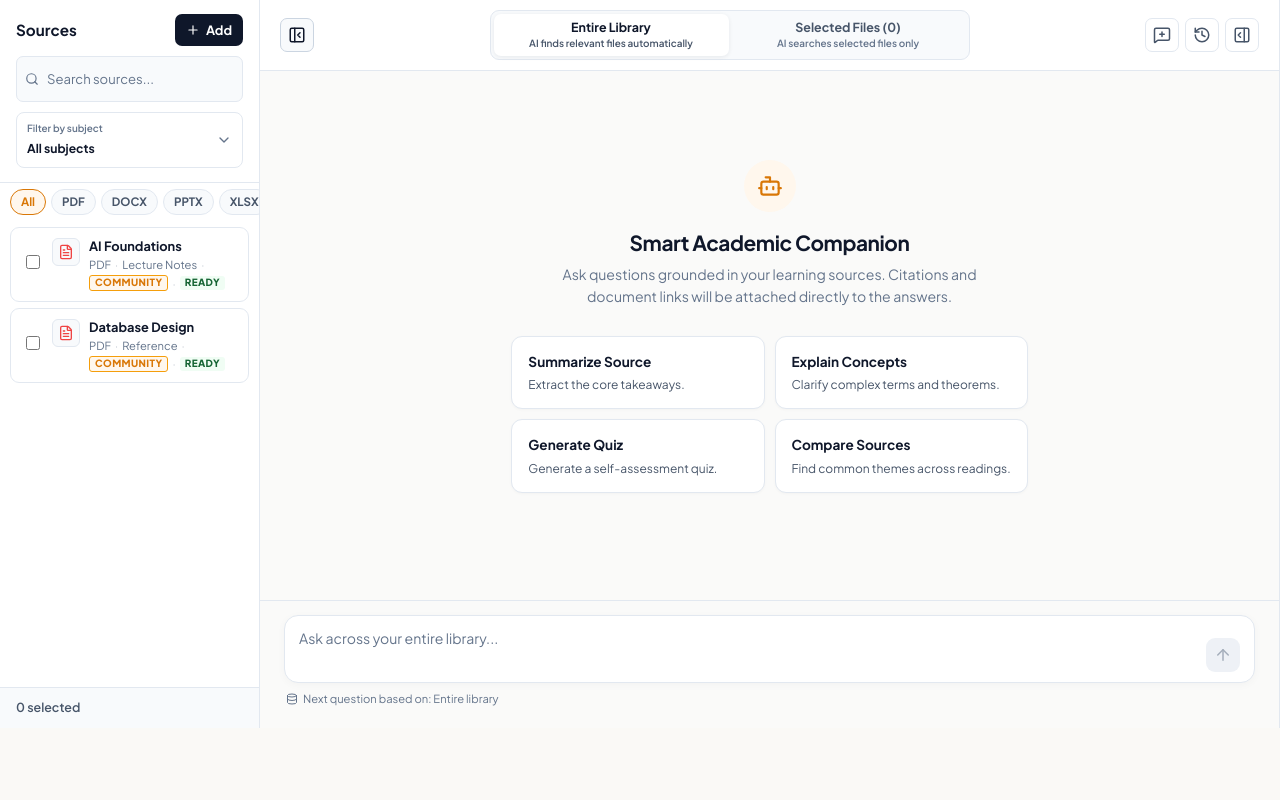
AiChatbotView subject filter › shows an explicit failure instead of a demo answer when the chat API fails
Check: the text "AI Foundations" is shown, box [89,238,182,254]
Type "Explain embeddings" into the text box with placeholder "Ask across your entire library..." at (748, 649), box [299,626,1196,672]
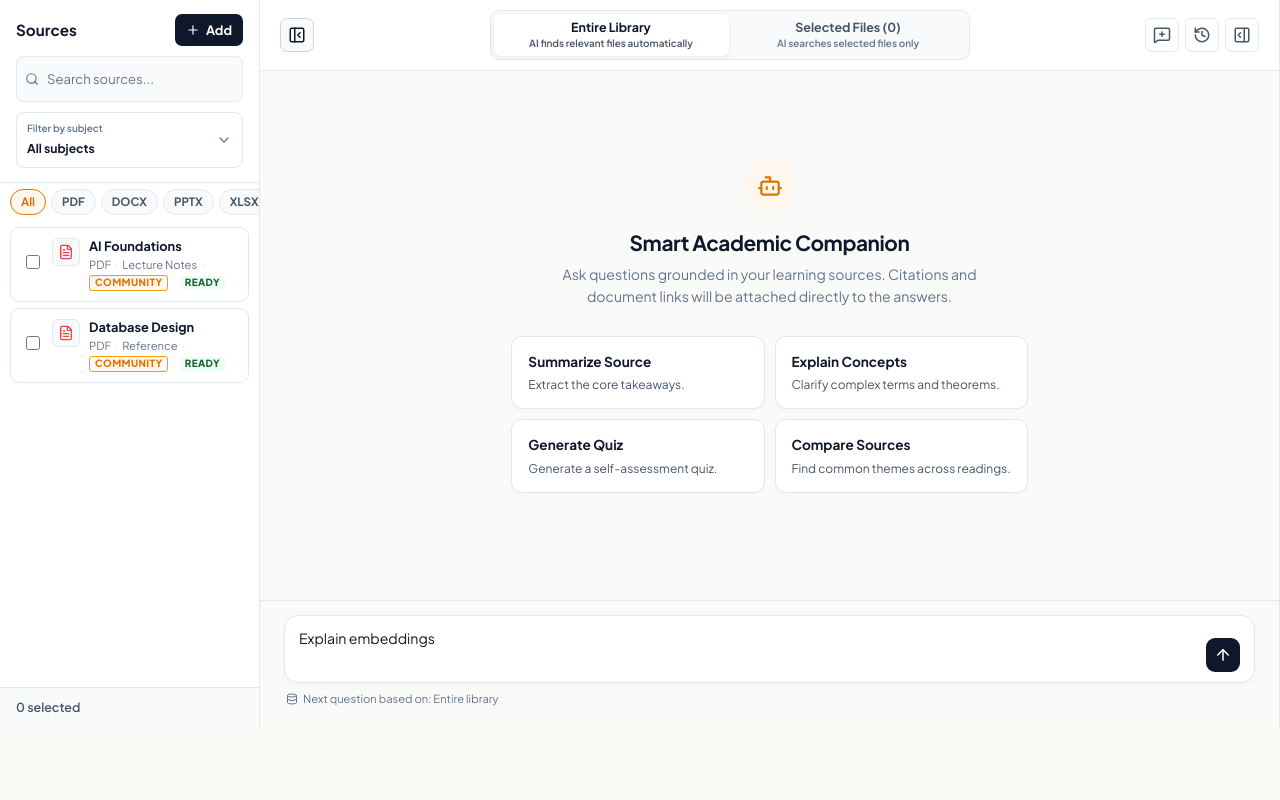
Click the button named "Send question" at (1223, 655), box [1206,638,1240,672]
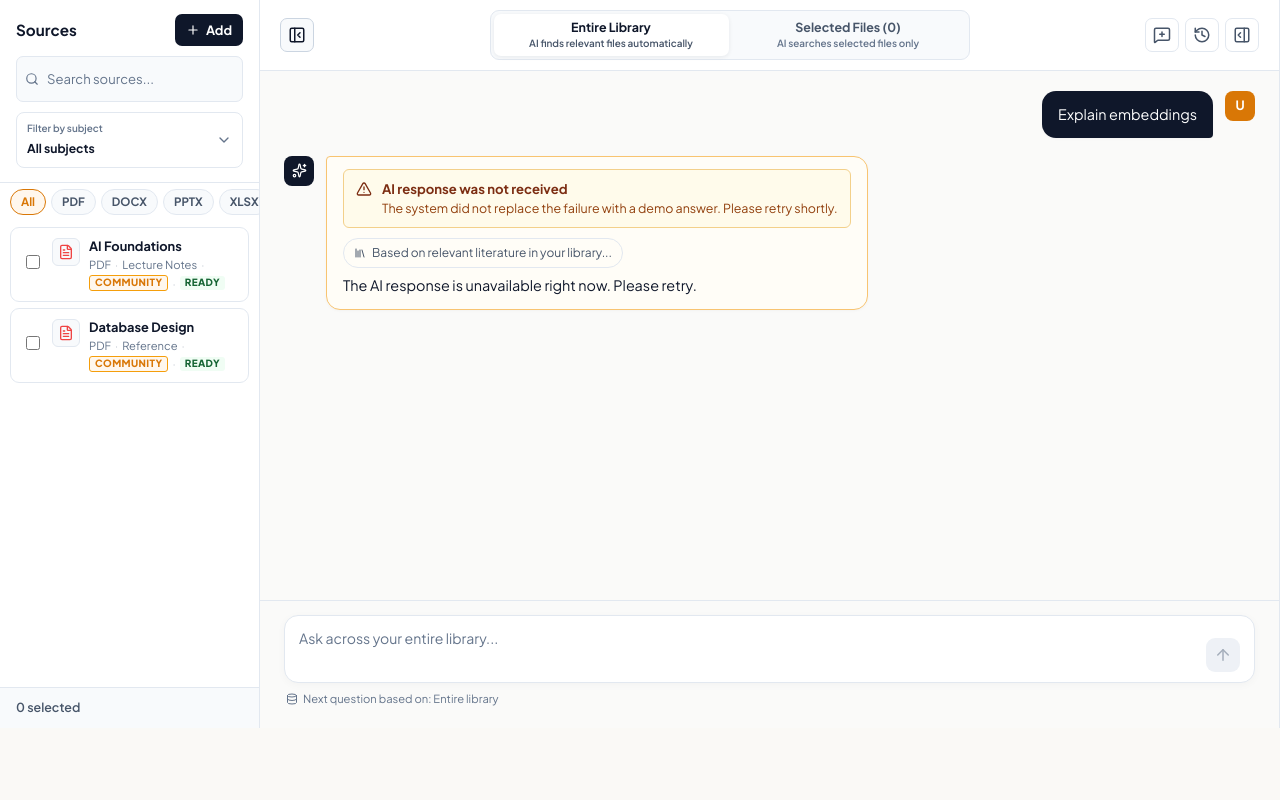
Check: the text "The AI response is unavailable right now. Please retry." is shown, box [343,276,697,294]
